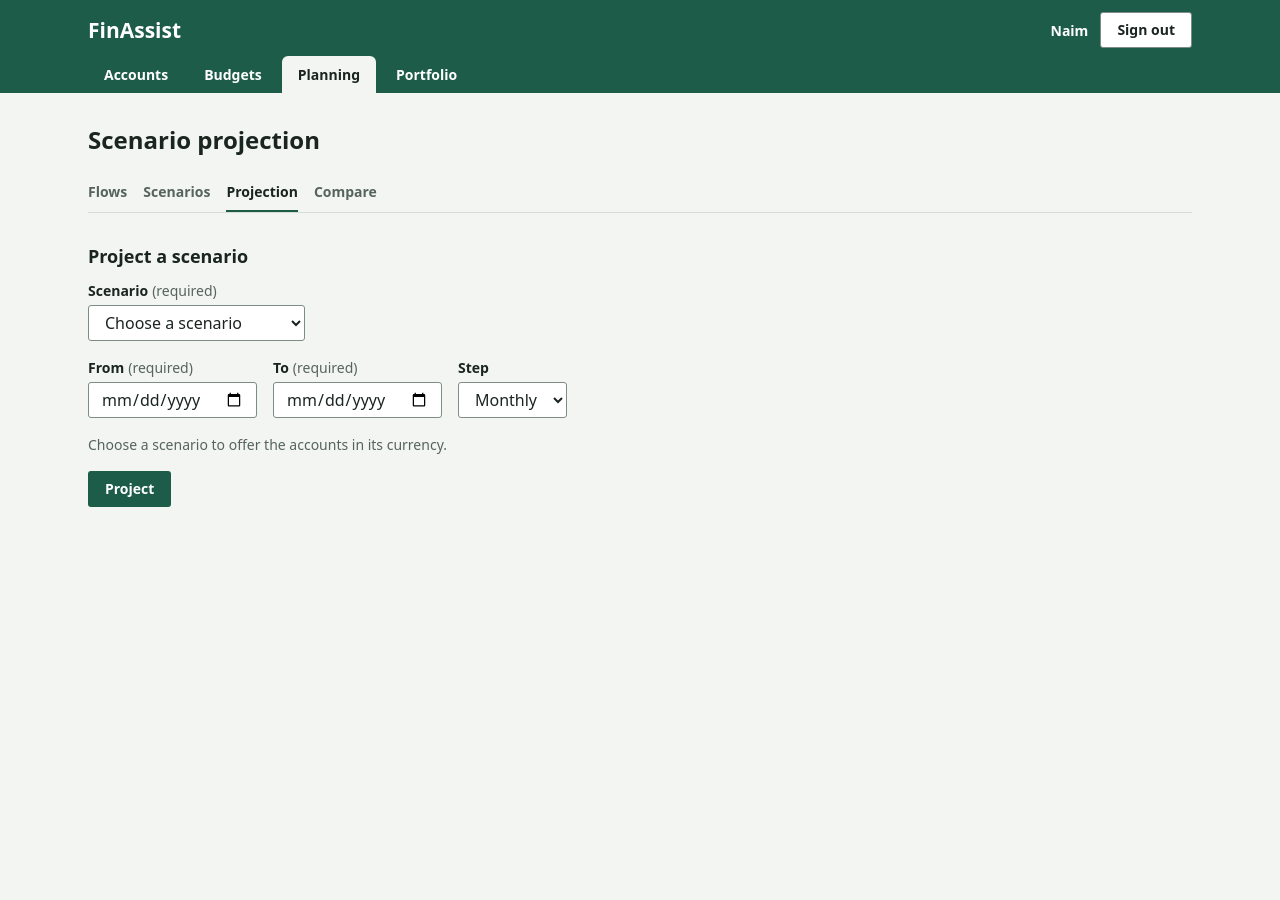
it: PlanningAccountsBridge › Given_accounts_on_screen_When_a_later_read_of_them_fails_Then_the_checkboxes_stay_beside_the_failure
The image size is (1280, 900).
Select "Aggressive saving (ILS)" in the dropdown labelled "Scenario". click: (196, 322)
box: [88,304,305,340]
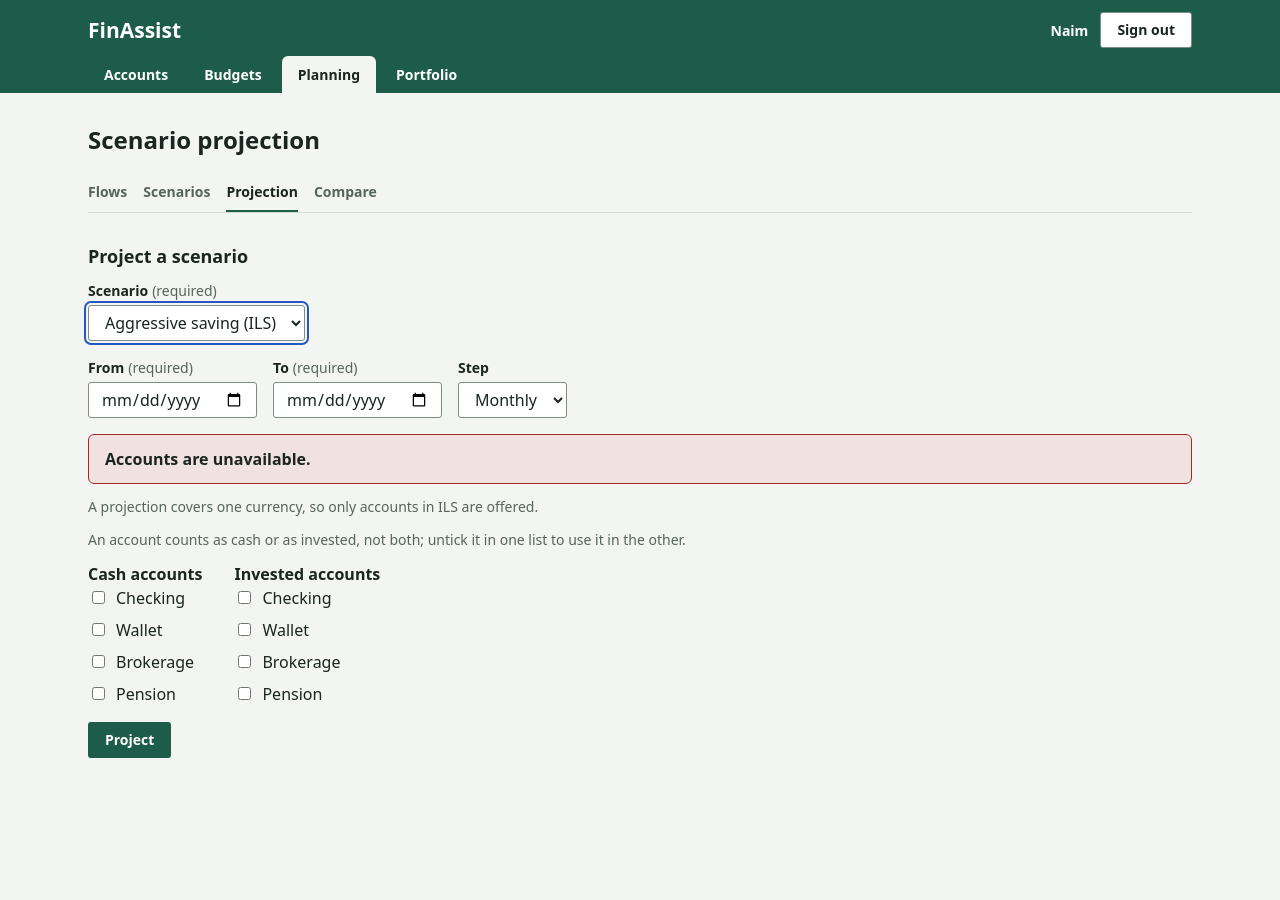
Check: the text "Accounts are unavailable." is shown, box [105,448,311,470]
